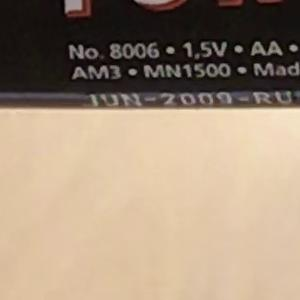keyword: (175, 33, 236, 66)
